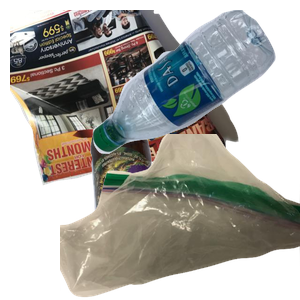glass: (88, 120, 252, 300)
paper: (10, 10, 241, 188)
plastic: (90, 10, 300, 156)
trash: (60, 134, 300, 300)
